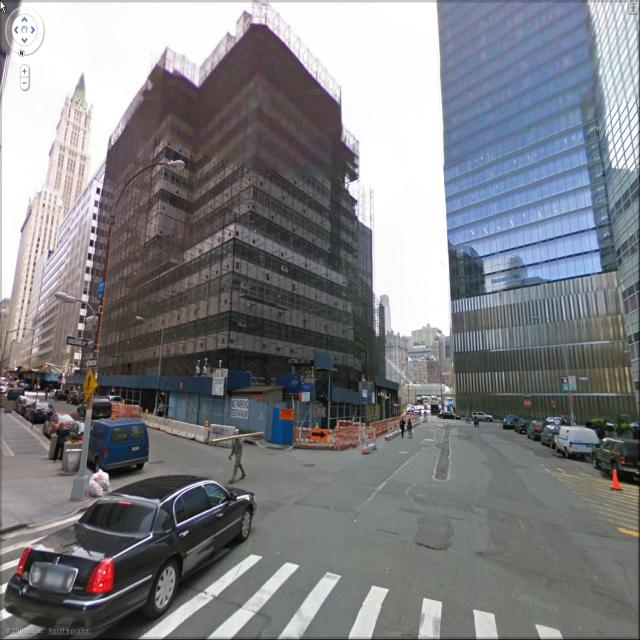b_1: (76, 38, 382, 402), (434, 6, 635, 433), (3, 73, 95, 366), (33, 169, 124, 367), (582, 86, 622, 275)
